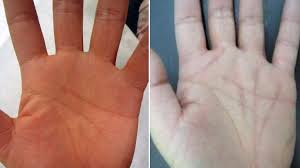palm: (24, 60, 130, 164), (190, 59, 289, 167)
